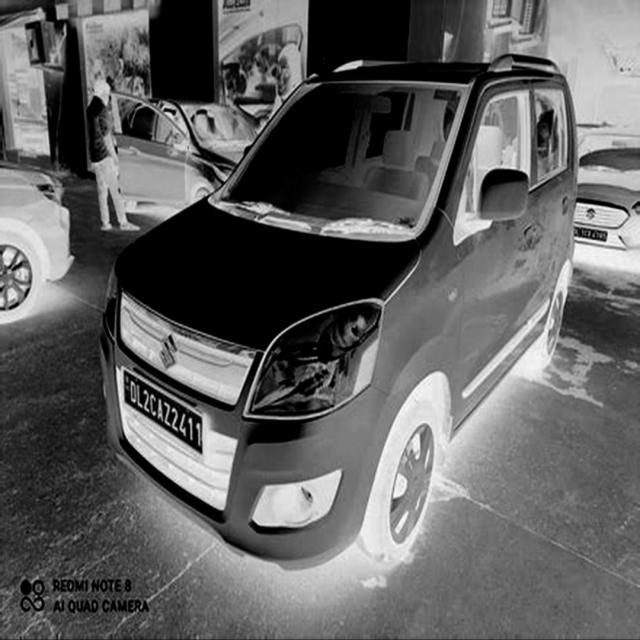1: (187, 415, 195, 443), (196, 421, 202, 448)
2: (171, 406, 178, 432), (144, 388, 150, 415)
4: (180, 410, 187, 438)
A: (157, 396, 163, 422)
C: (150, 391, 158, 416)
D: (130, 378, 136, 404)
IND: (123, 373, 131, 398)
Indian_registered: (124, 371, 202, 452)
L: (137, 381, 143, 410)
Z: (164, 400, 172, 428)
